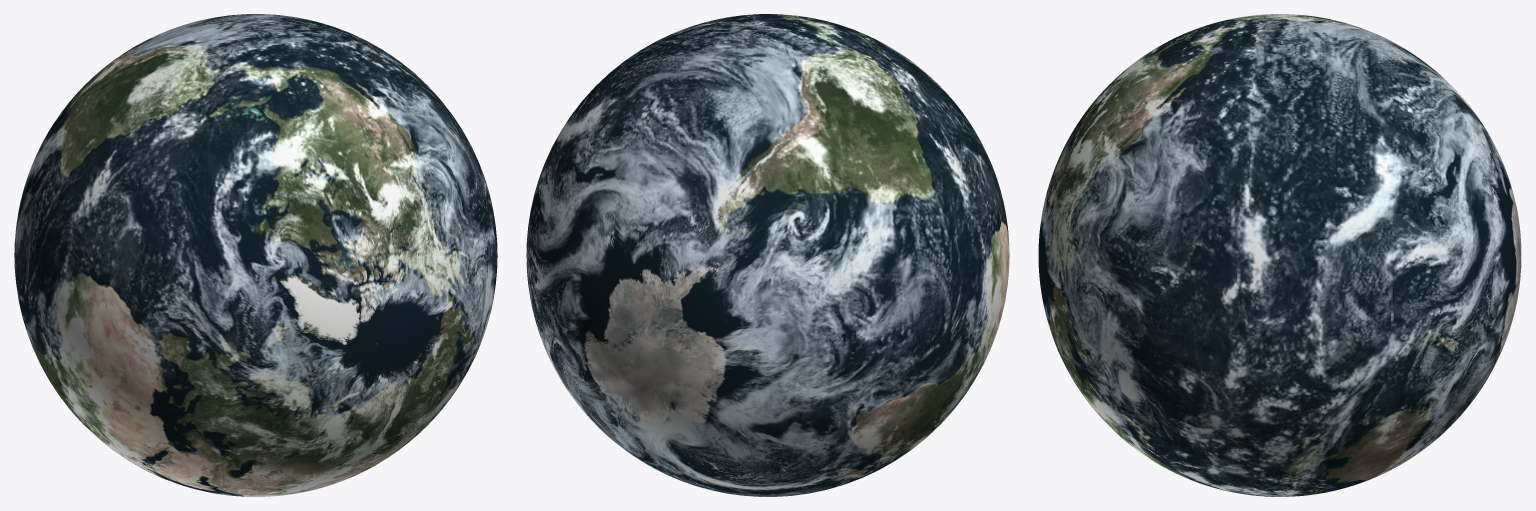
File: bumi.glb
The picture shows the model from 3 angles, left to right: view 1: azimuth 30°, elevation 25°; view 2: azimuth 150°, elevation 25°; view 3: azimuth 270°, elevation 25°; orthographic projection.
Visible parts, largest first — view 1: node_id30_1_4; view 2: node_id30_1_4; view 3: node_id30_1_4.
Boxes of the visible parts, box(x1,y1,x2,y2) form: node_id30_1_4: box(14, 14, 497, 496); node_id30_1_4: box(526, 14, 1009, 496); node_id30_1_4: box(1038, 14, 1521, 496).
Bounding box in the file's own units: 0.512 × 0.512 × 0.512.
1 material, 1 textured.
